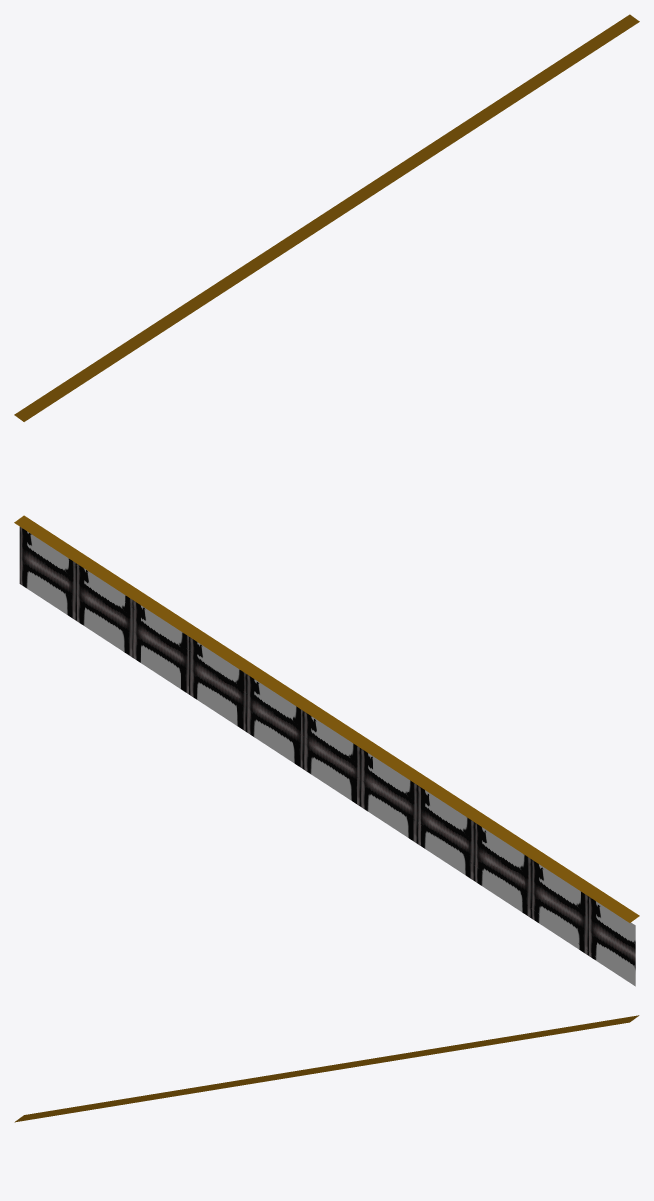
Rendered from Handlauf [Rohre]_1444.glb.
The picture shows the model from 3 angles, top to bottom: view 1: azimuth 30°, elevation 25°; view 2: azimuth 150°, elevation 25°; view 3: azimuth 330°, elevation 25°; orthographic projection.
Visible parts, largest first — view 1: pPlaneShape173; view 2: pPlaneShape172, pPlaneShape173; view 3: pPlaneShape173.
Part boxes in pixels (<box>): pPlaneShape173: <box>14,14,639,421</box>; pPlaneShape172: <box>19,527,635,986</box>; pPlaneShape173: <box>14,515,639,922</box>; pPlaneShape173: <box>14,1015,639,1122</box>.
Bounding box in the file's own units: 1 × 0.493 × 0.0284.
Materials: 2 (1 with a texture image).
